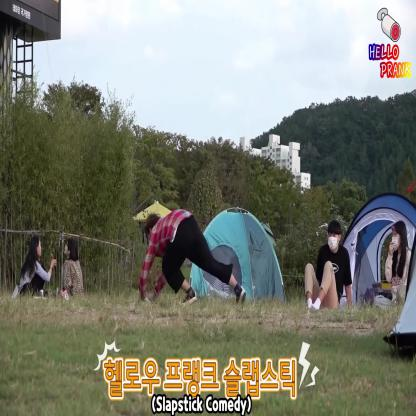Fall_Down: (137, 209, 246, 312)
